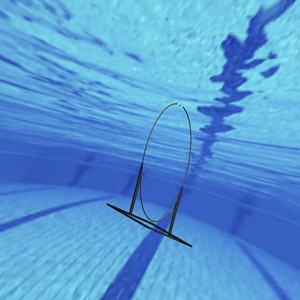circle: (105, 101, 194, 246)
